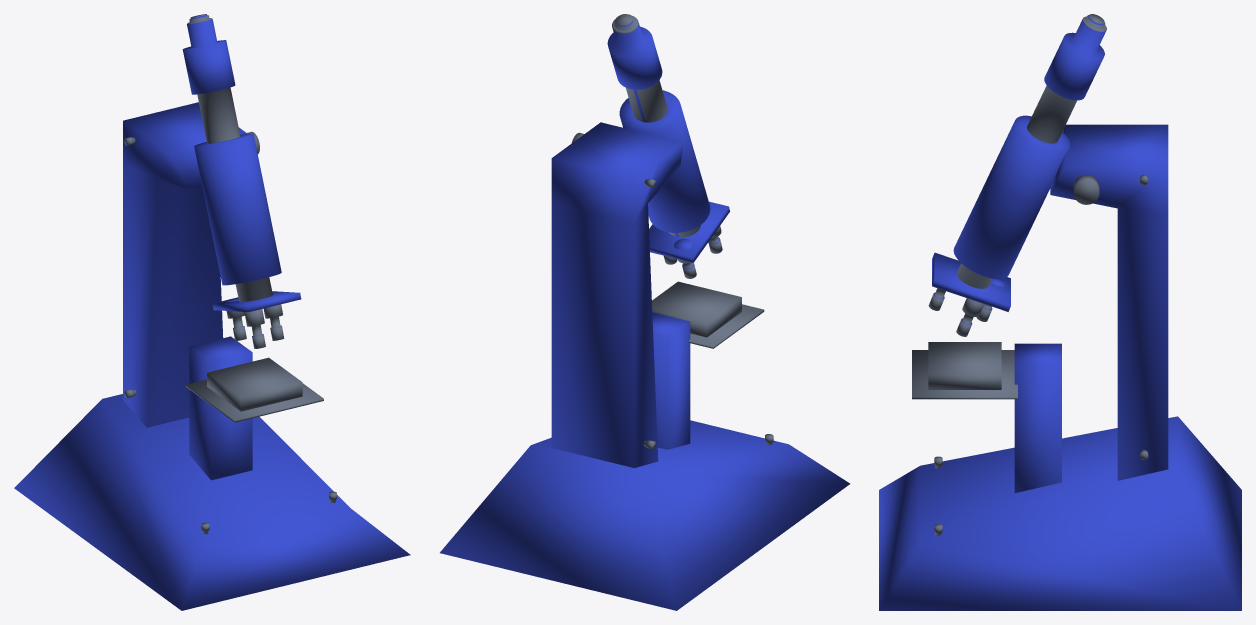
The model's file is Microscope.fbx.
The picture shows the model from 3 angles, left to right: view 1: azimuth 30°, elevation 25°; view 2: azimuth 150°, elevation 25°; view 3: azimuth 270°, elevation 25°; orthographic projection. The views are drawn at different scales.
Visible parts, largest first — view 1: Microscope, Stage, BodyTube, MagnifierObjective; view 2: Microscope, BodyTube, Stage, MagnifierObjective; view 3: Microscope, Stage, BodyTube, MagnifierObjective, CoarseAdjustmentKnob.
Part boxes in pixels (box(x1,y1,x2,y2)): Microscope: box(14, 102, 410, 610); Stage: box(185, 357, 323, 422); BodyTube: box(182, 14, 240, 143); MagnifierObjective: box(225, 298, 284, 348); Microscope: box(440, 90, 850, 610); BodyTube: box(607, 14, 667, 122); Stage: box(652, 281, 764, 348); MagnifierObjective: box(663, 226, 722, 278); Microscope: box(879, 115, 1241, 610); Stage: box(912, 342, 1017, 399); BodyTube: box(1027, 14, 1106, 143); MagnifierObjective: box(928, 278, 1004, 336); CoarseAdjustmentKnob: box(1073, 175, 1099, 204).
Size of the model in its own units: 0.7153 by 1.51 by 0.9068.
